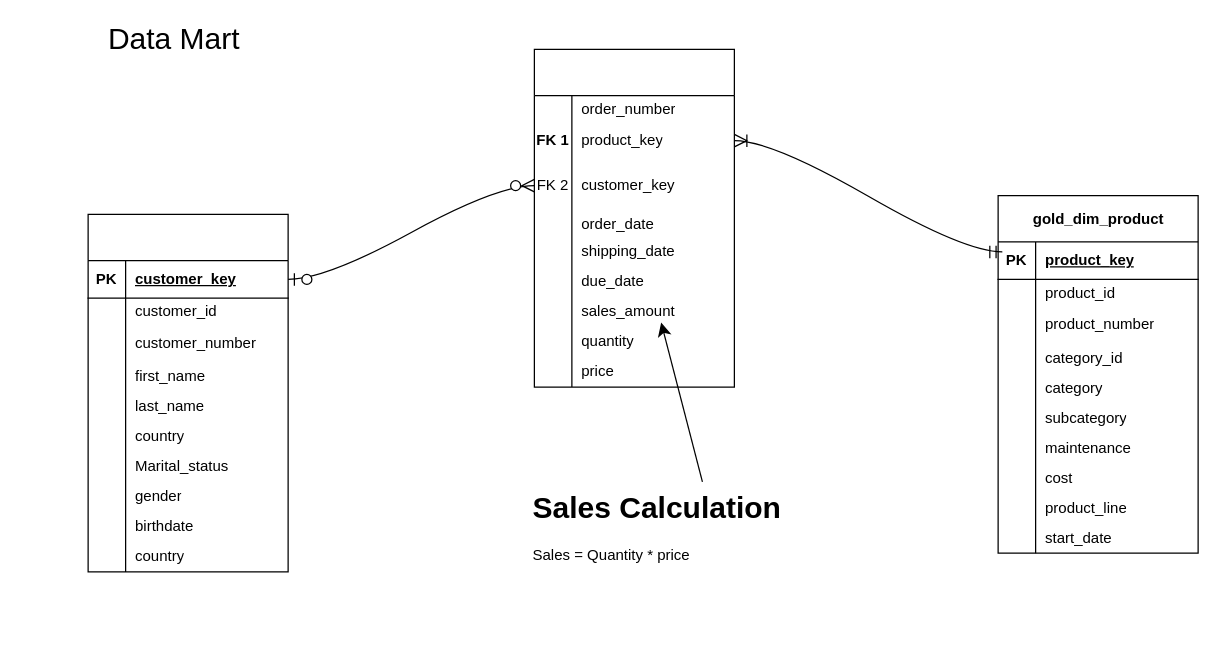
The diagram is 1220 pixels wide and 658 high, and some of its shapes have lost their labels. Here are the shapes that lost their labels. From the top down, the box of each, then its label:
(533, 48, 734, 387): gold_fact_sales
(87, 213, 288, 572): gold_dim_customers
